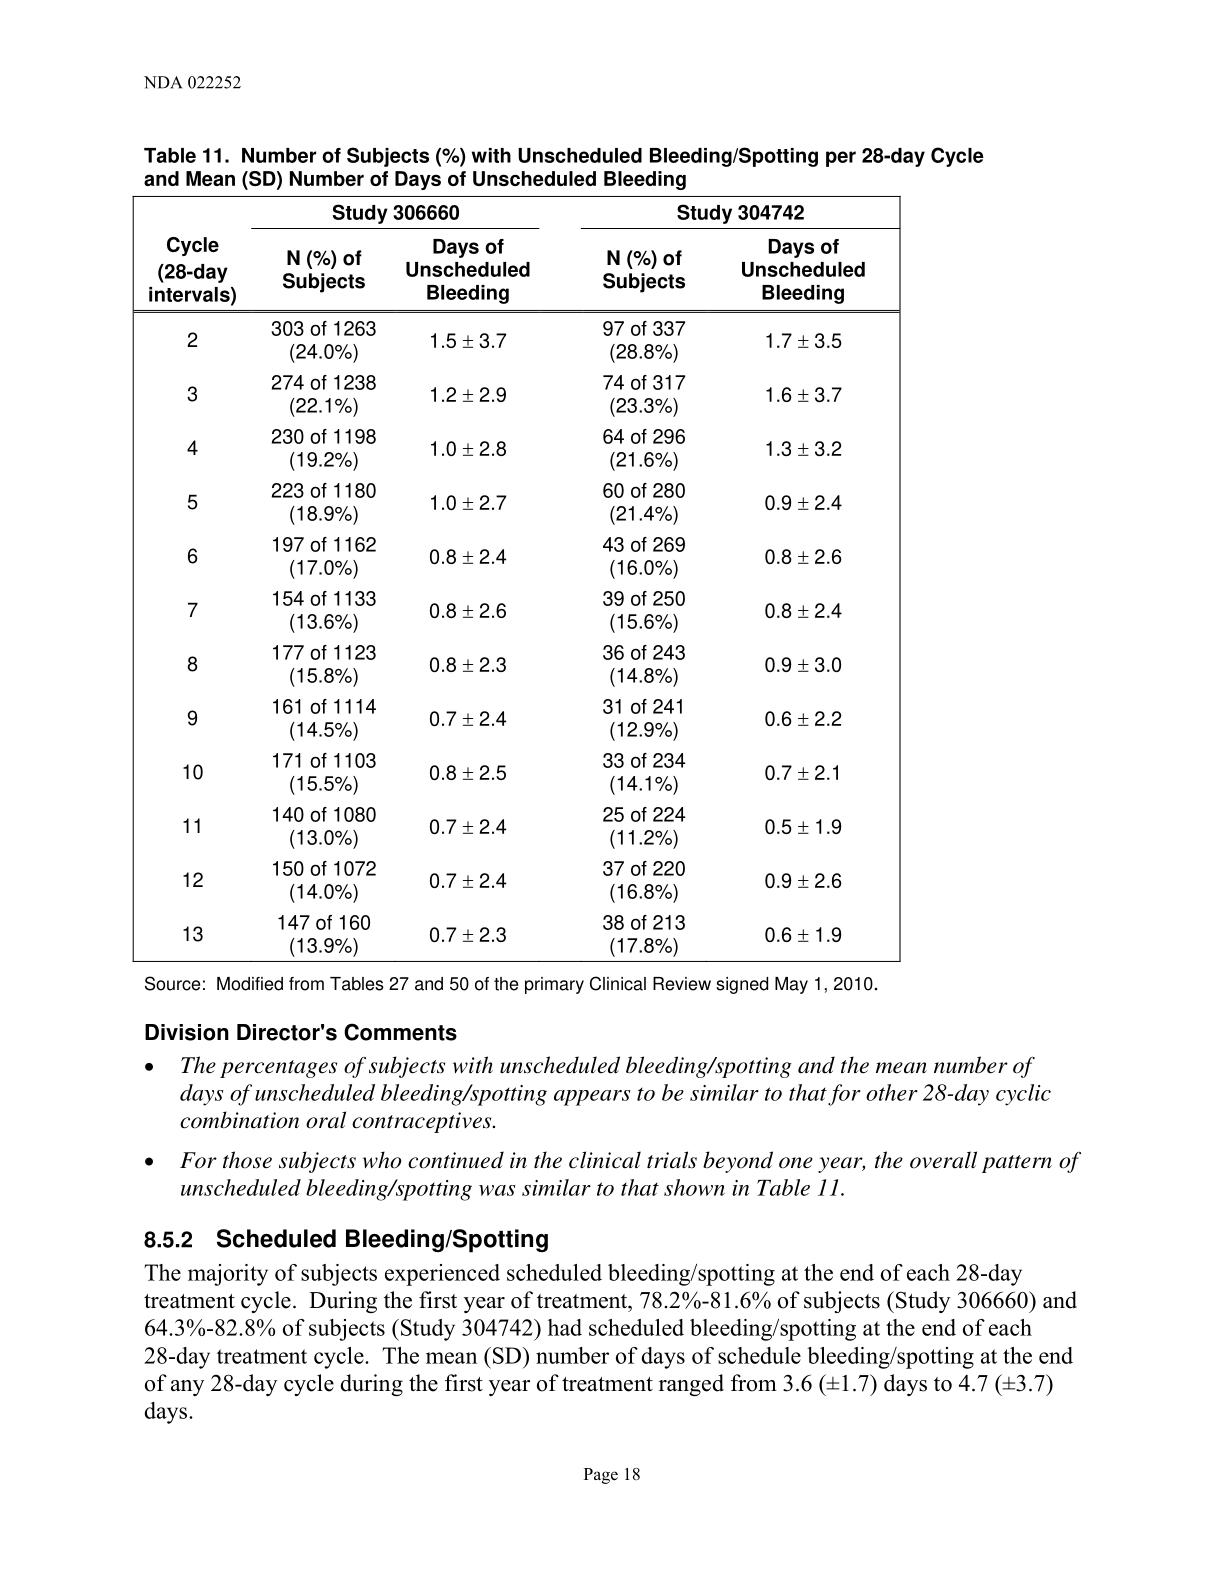partial_lined_merged_cells: (131, 194, 903, 963)
